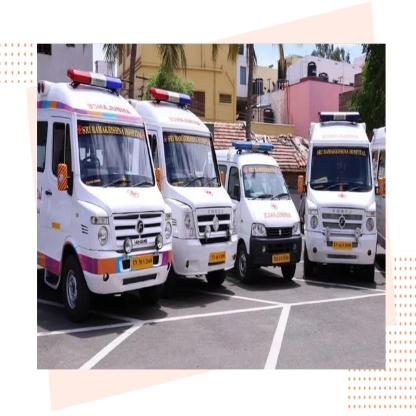priority: (37, 69, 172, 312), (126, 87, 238, 282), (304, 112, 378, 278), (215, 142, 301, 284)
